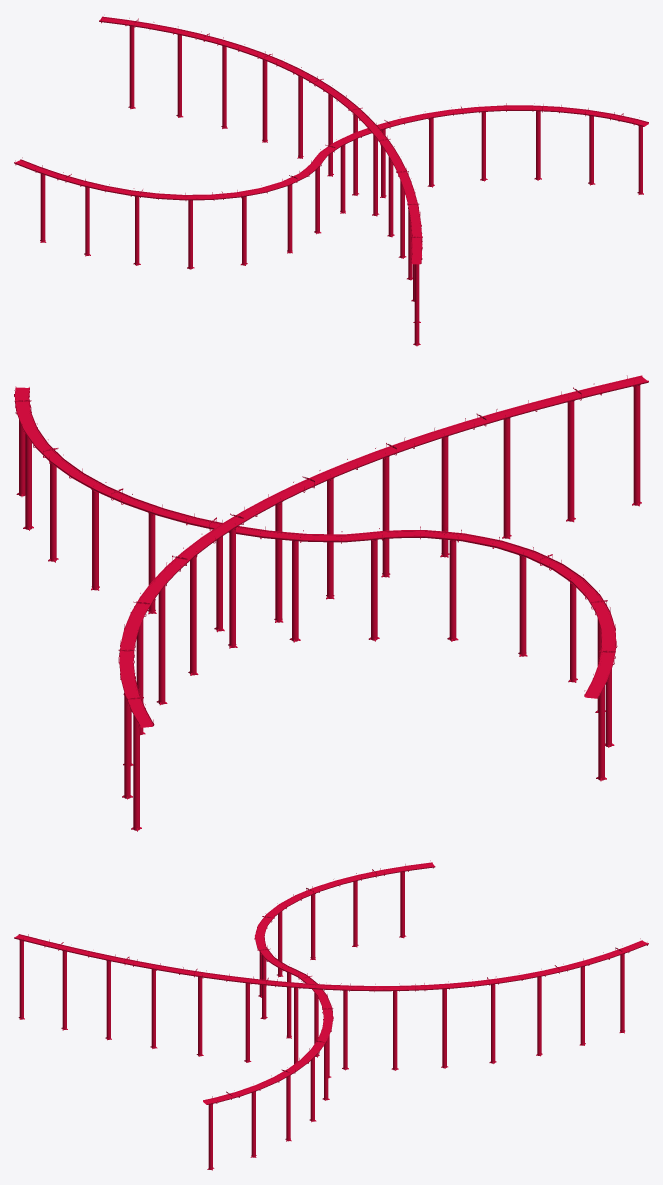
Rendered from BackgroundRoads.fbx.
3 views of the same model, one above another, from view 1: azimuth 30°, elevation 25°; view 2: azimuth 150°, elevation 25°; view 3: azimuth 270°, elevation 25° (orthographic). The views are drawn at different scales.
Parts seen in each view (by area): view 1: BackgroundRoad1, BackgroundRoad2; view 2: BackgroundRoad2, BackgroundRoad1; view 3: BackgroundRoad2, BackgroundRoad1.
Part boxes in pixels (x1,y1,x2,y2): BackgroundRoad1: [14, 103, 648, 269]; BackgroundRoad2: [99, 16, 422, 346]; BackgroundRoad2: [118, 375, 648, 831]; BackgroundRoad1: [14, 386, 617, 781]; BackgroundRoad2: [14, 934, 648, 1070]; BackgroundRoad1: [203, 860, 435, 1170].
Size of the model in its own units: 182429 by 29752 by 202743.
